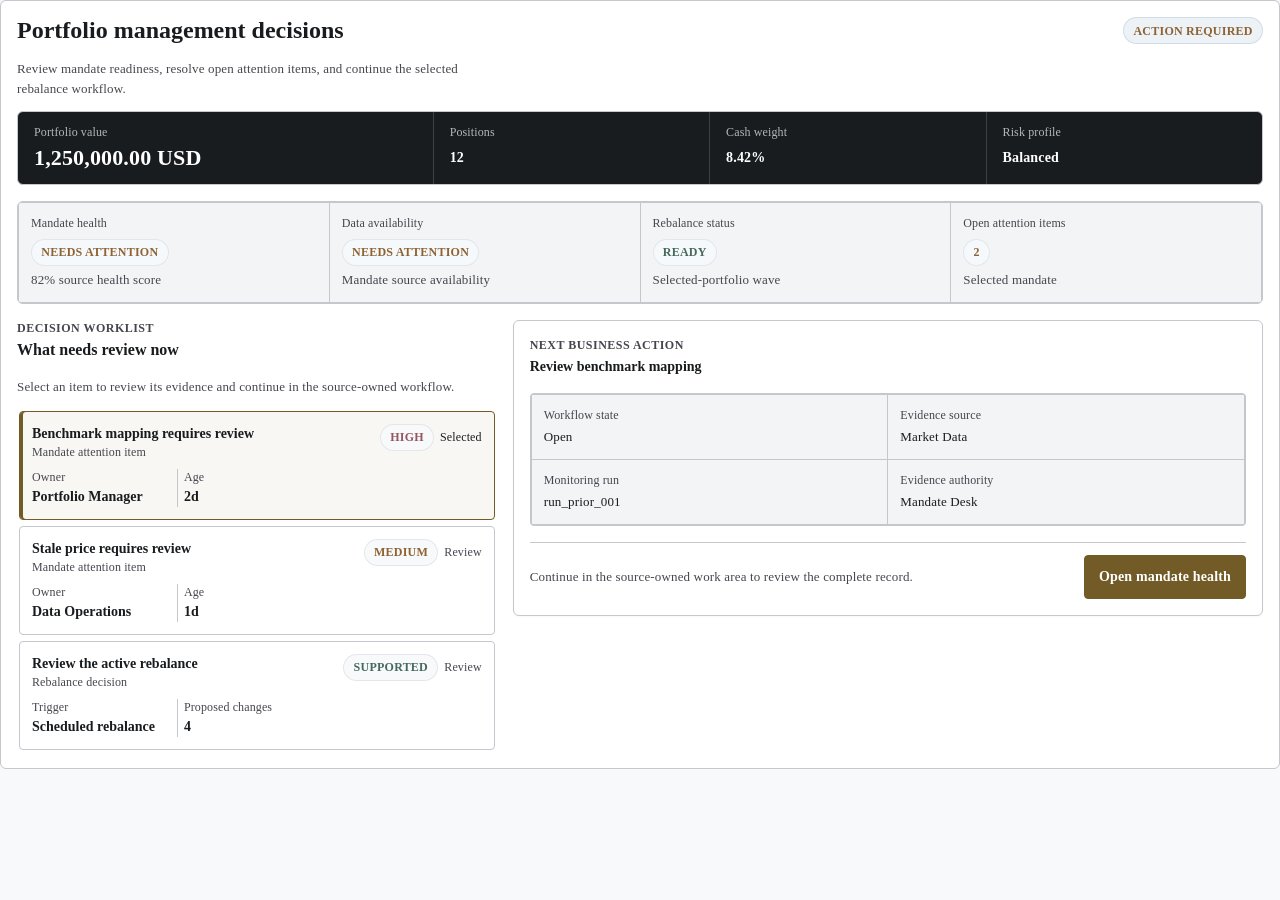
Test: manage workspace split components › renders overview operating posture from Gateway-backed manage data
Expected: the heading "Portfolio management decisions" is shown, [17,17,344,43]
Expected: the text "Mandate health" is shown, [31,216,107,230]
Click the option "Review the active rebalance". click: (115, 663)
box: [19,641,495,750]
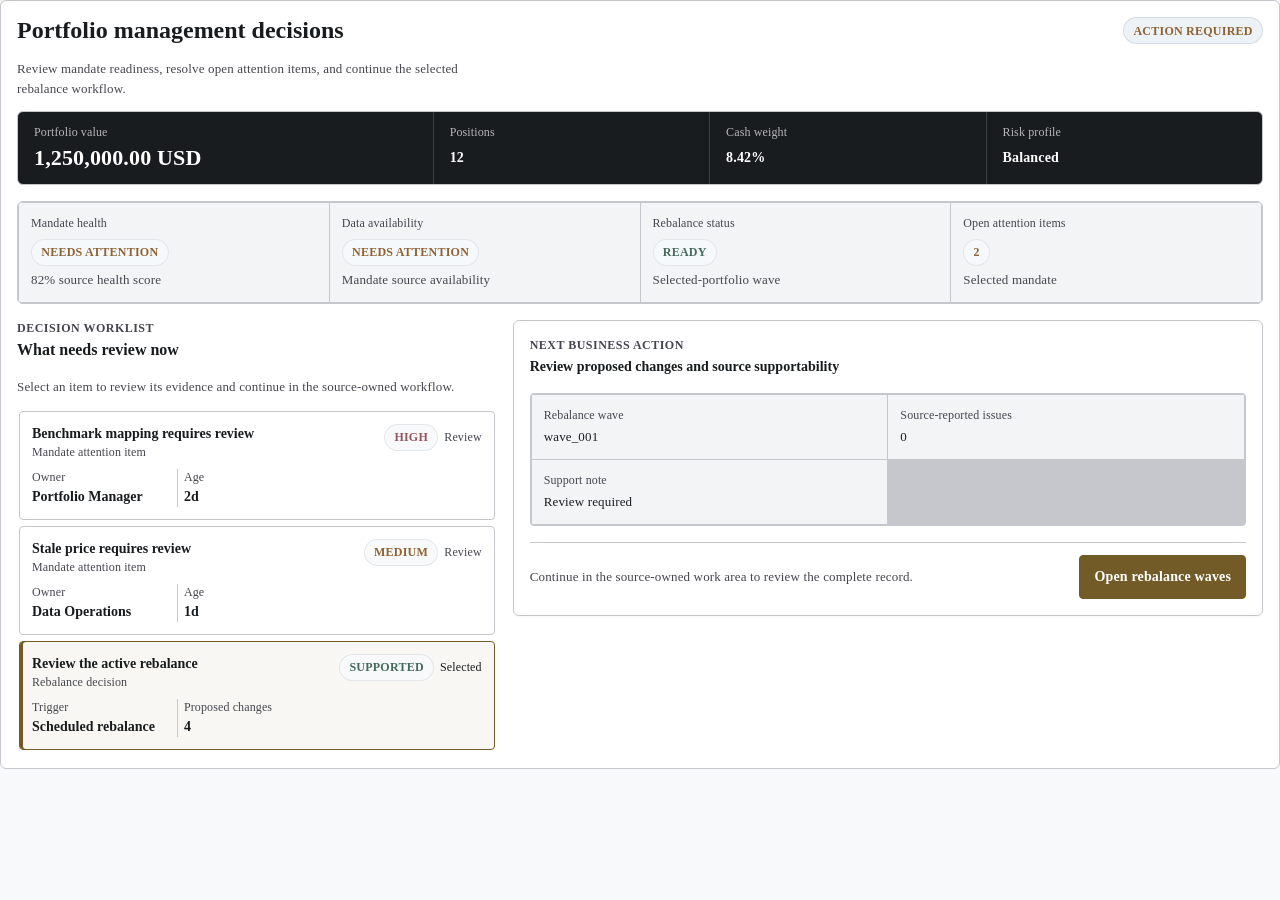
Expected: the heading "Review proposed changes and source supportability" is shown, [530,359,839,374]
